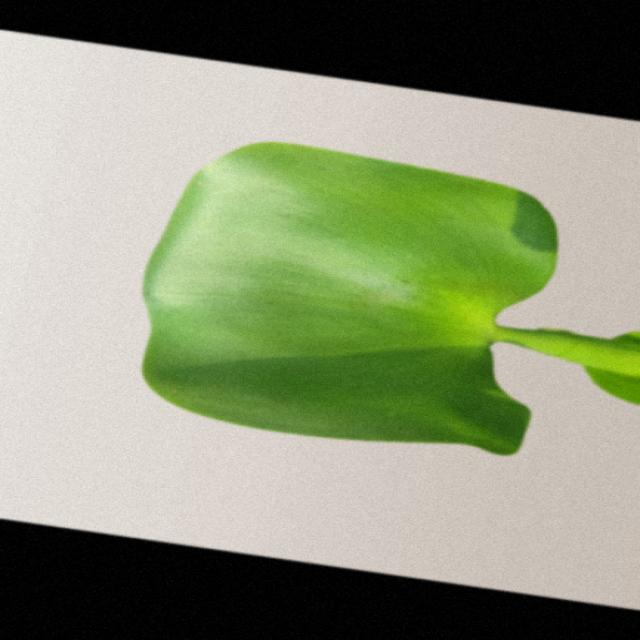daun sehat: (143, 144, 638, 454)
